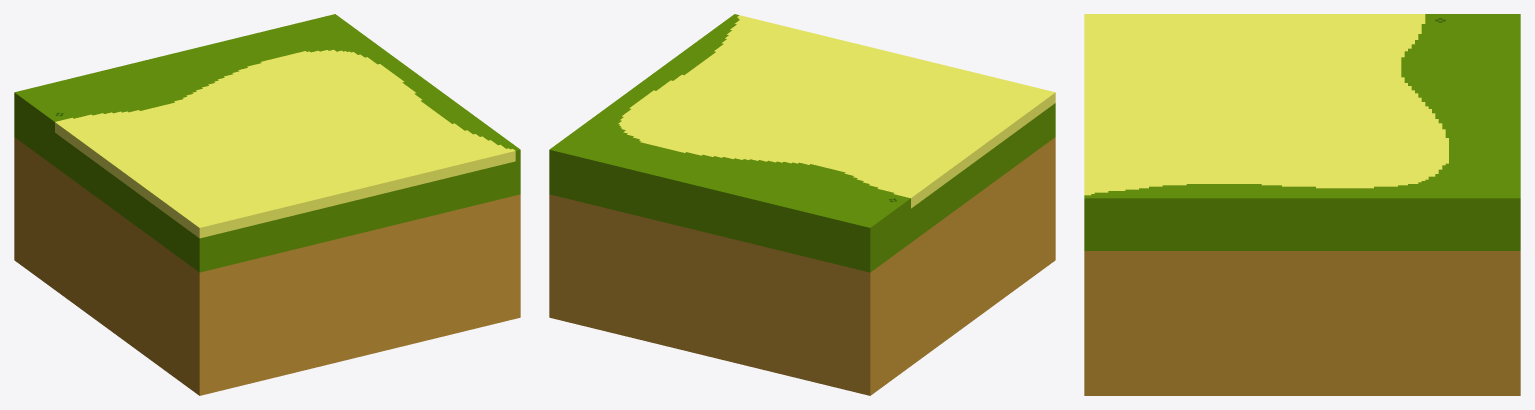
3 renders of one model, left to right at view 1: azimuth 30°, elevation 25°; view 2: azimuth 150°, elevation 25°; view 3: azimuth 270°, elevation 25°, orthographic. The views are drawn at different scales.
Parts seen in each view (by area): view 1: 13J; view 2: 13J; view 3: 13J.
Part boxes in pixels (left/top/right/bottom): 13J: left=14, top=14, right=520, bottom=395; 13J: left=549, top=14, right=1055, bottom=395; 13J: left=1084, top=14, right=1520, bottom=395.
Bounding box in the file's own units: 12.8 × 6.4 × 12.8.
1 material, 1 textured.
